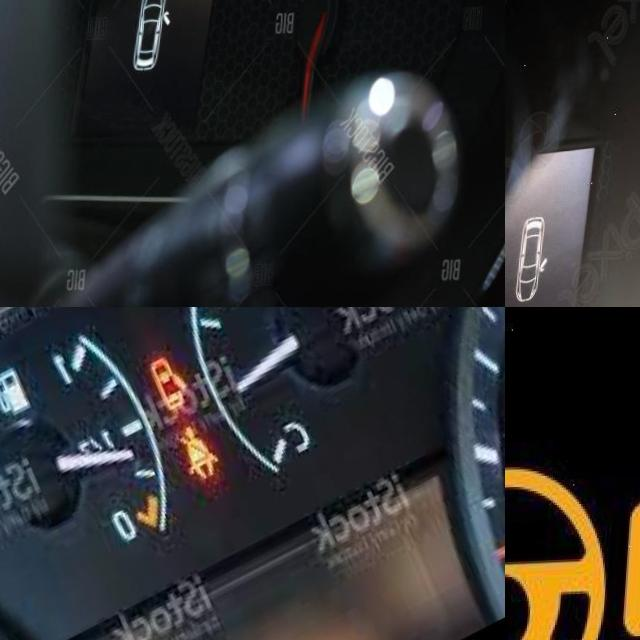Electronic Power Steering Warning: (505, 460, 640, 640)
Seat Belt: (178, 423, 231, 488)
